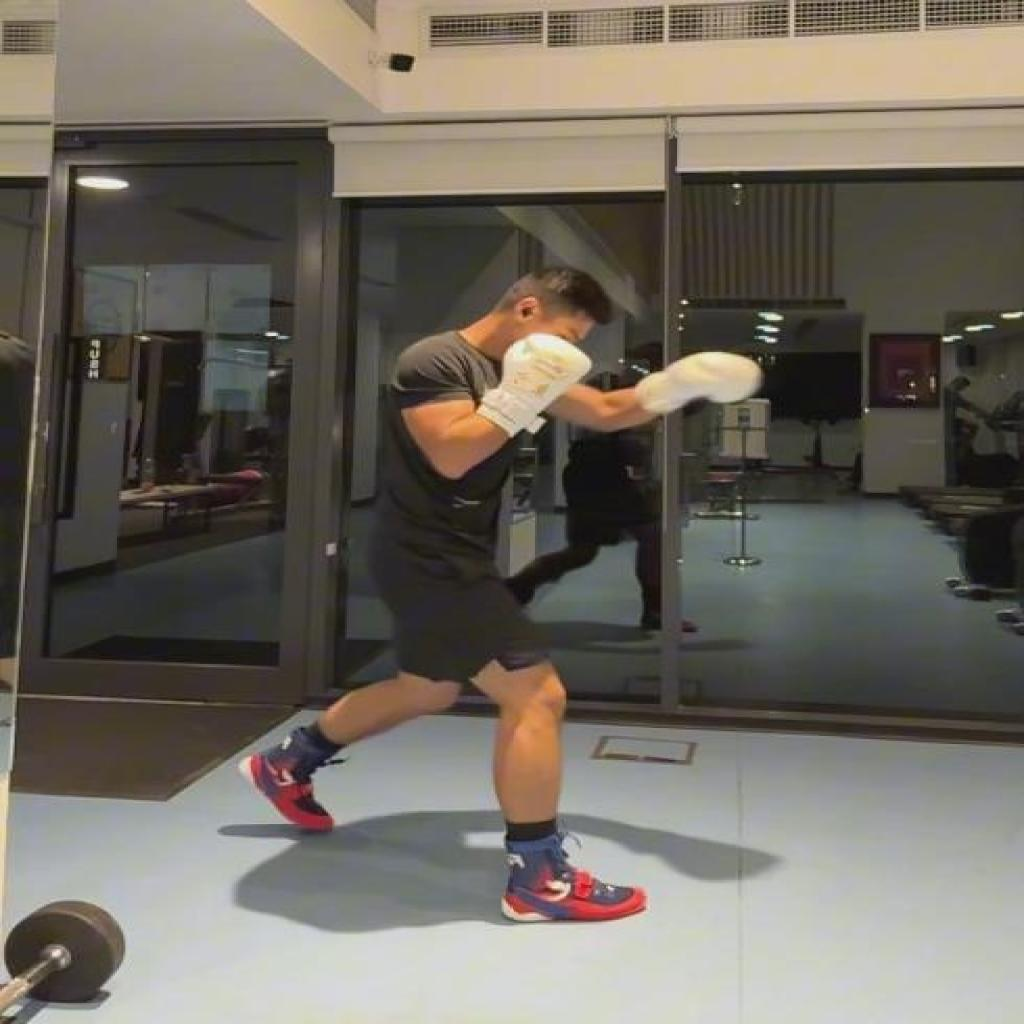cross: (240, 264, 763, 926)
